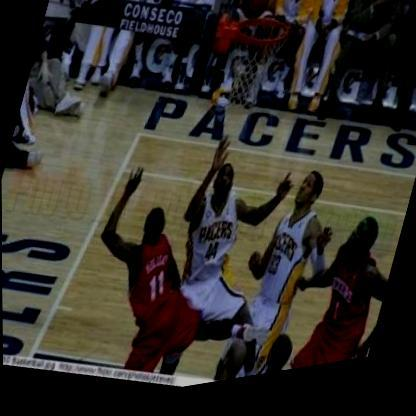basketball: (239, 0, 279, 36)
